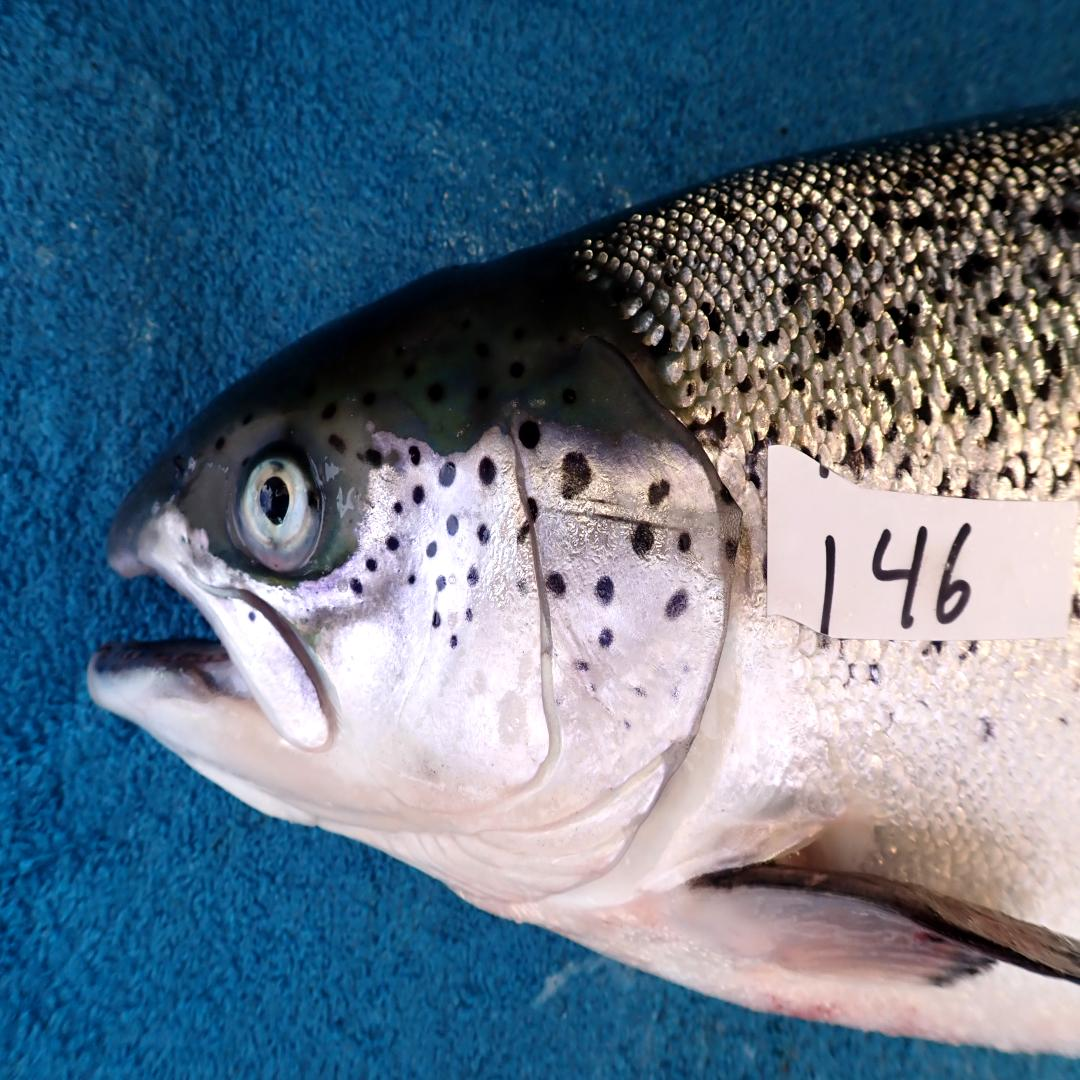roi: (332, 410, 728, 912)
